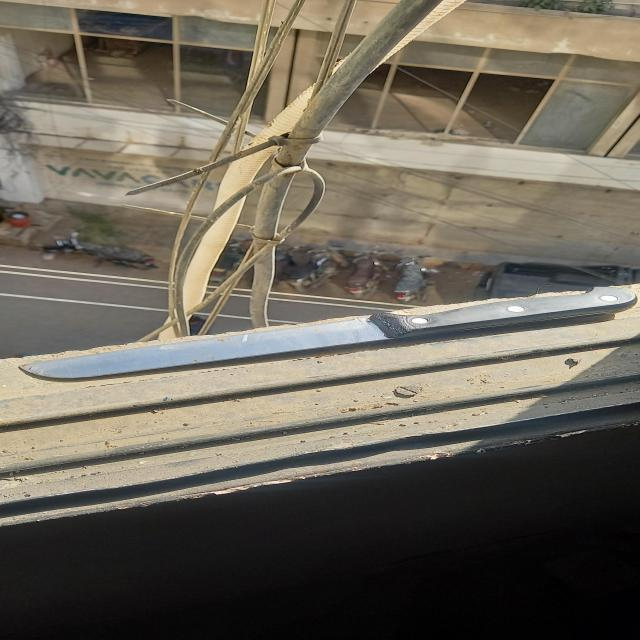faca: (18, 286, 639, 379)
